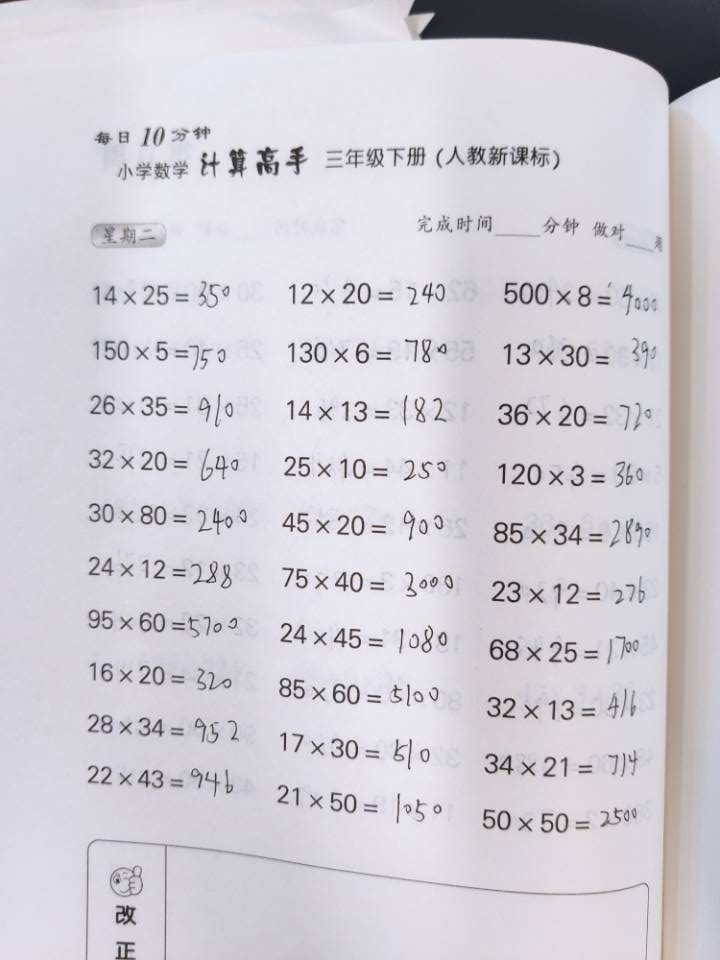equation: (202, 345, 244, 592), (418, 348, 460, 595), (289, 353, 331, 600), (325, 348, 367, 595), (581, 357, 623, 604), (471, 88, 513, 335), (424, 81, 466, 328), (383, 77, 425, 324), (336, 80, 378, 327), (242, 69, 284, 316), (594, 77, 636, 324), (554, 73, 596, 320), (410, 613, 452, 860), (368, 620, 410, 867), (326, 621, 368, 868), (284, 620, 326, 867), (244, 625, 286, 872), (490, 613, 532, 860), (447, 609, 489, 856), (500, 351, 542, 597), (459, 351, 501, 597), (238, 347, 280, 593), (373, 347, 415, 593), (512, 91, 554, 337), (293, 71, 335, 317), (200, 71, 242, 317), (568, 627, 610, 873), (542, 351, 584, 597), (205, 641, 240, 848), (534, 628, 565, 855)
